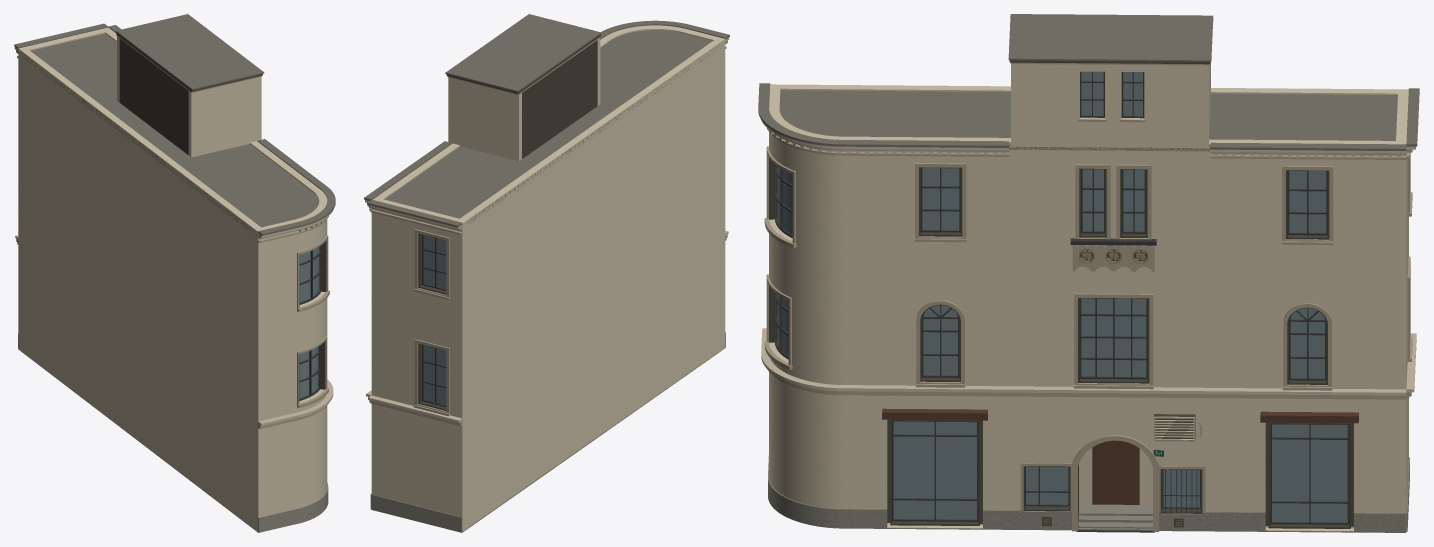
The model's file is xuhui-xiangyang-364-arched-residence-raw.glb.
The picture shows the model from 3 angles, left to right: view 1: azimuth 30°, elevation 25°; view 2: azimuth 150°, elevation 25°; view 3: azimuth 270°, elevation 25°; orthographic projection. The views are drawn at different scales.
Parts seen in each view (by area): view 1: 襄阳南路364号住宅; view 2: 襄阳南路364号住宅; view 3: 襄阳南路364号住宅.
Boxes of the visible parts, <box> form: 襄阳南路364号住宅: <box>14,14,335,532</box>; 襄阳南路364号住宅: <box>364,14,729,532</box>; 襄阳南路364号住宅: <box>758,14,1419,532</box>.
Size of the model in its own units: 3.73 by 12.62 by 15.87.
16 materials, 2 textured.
